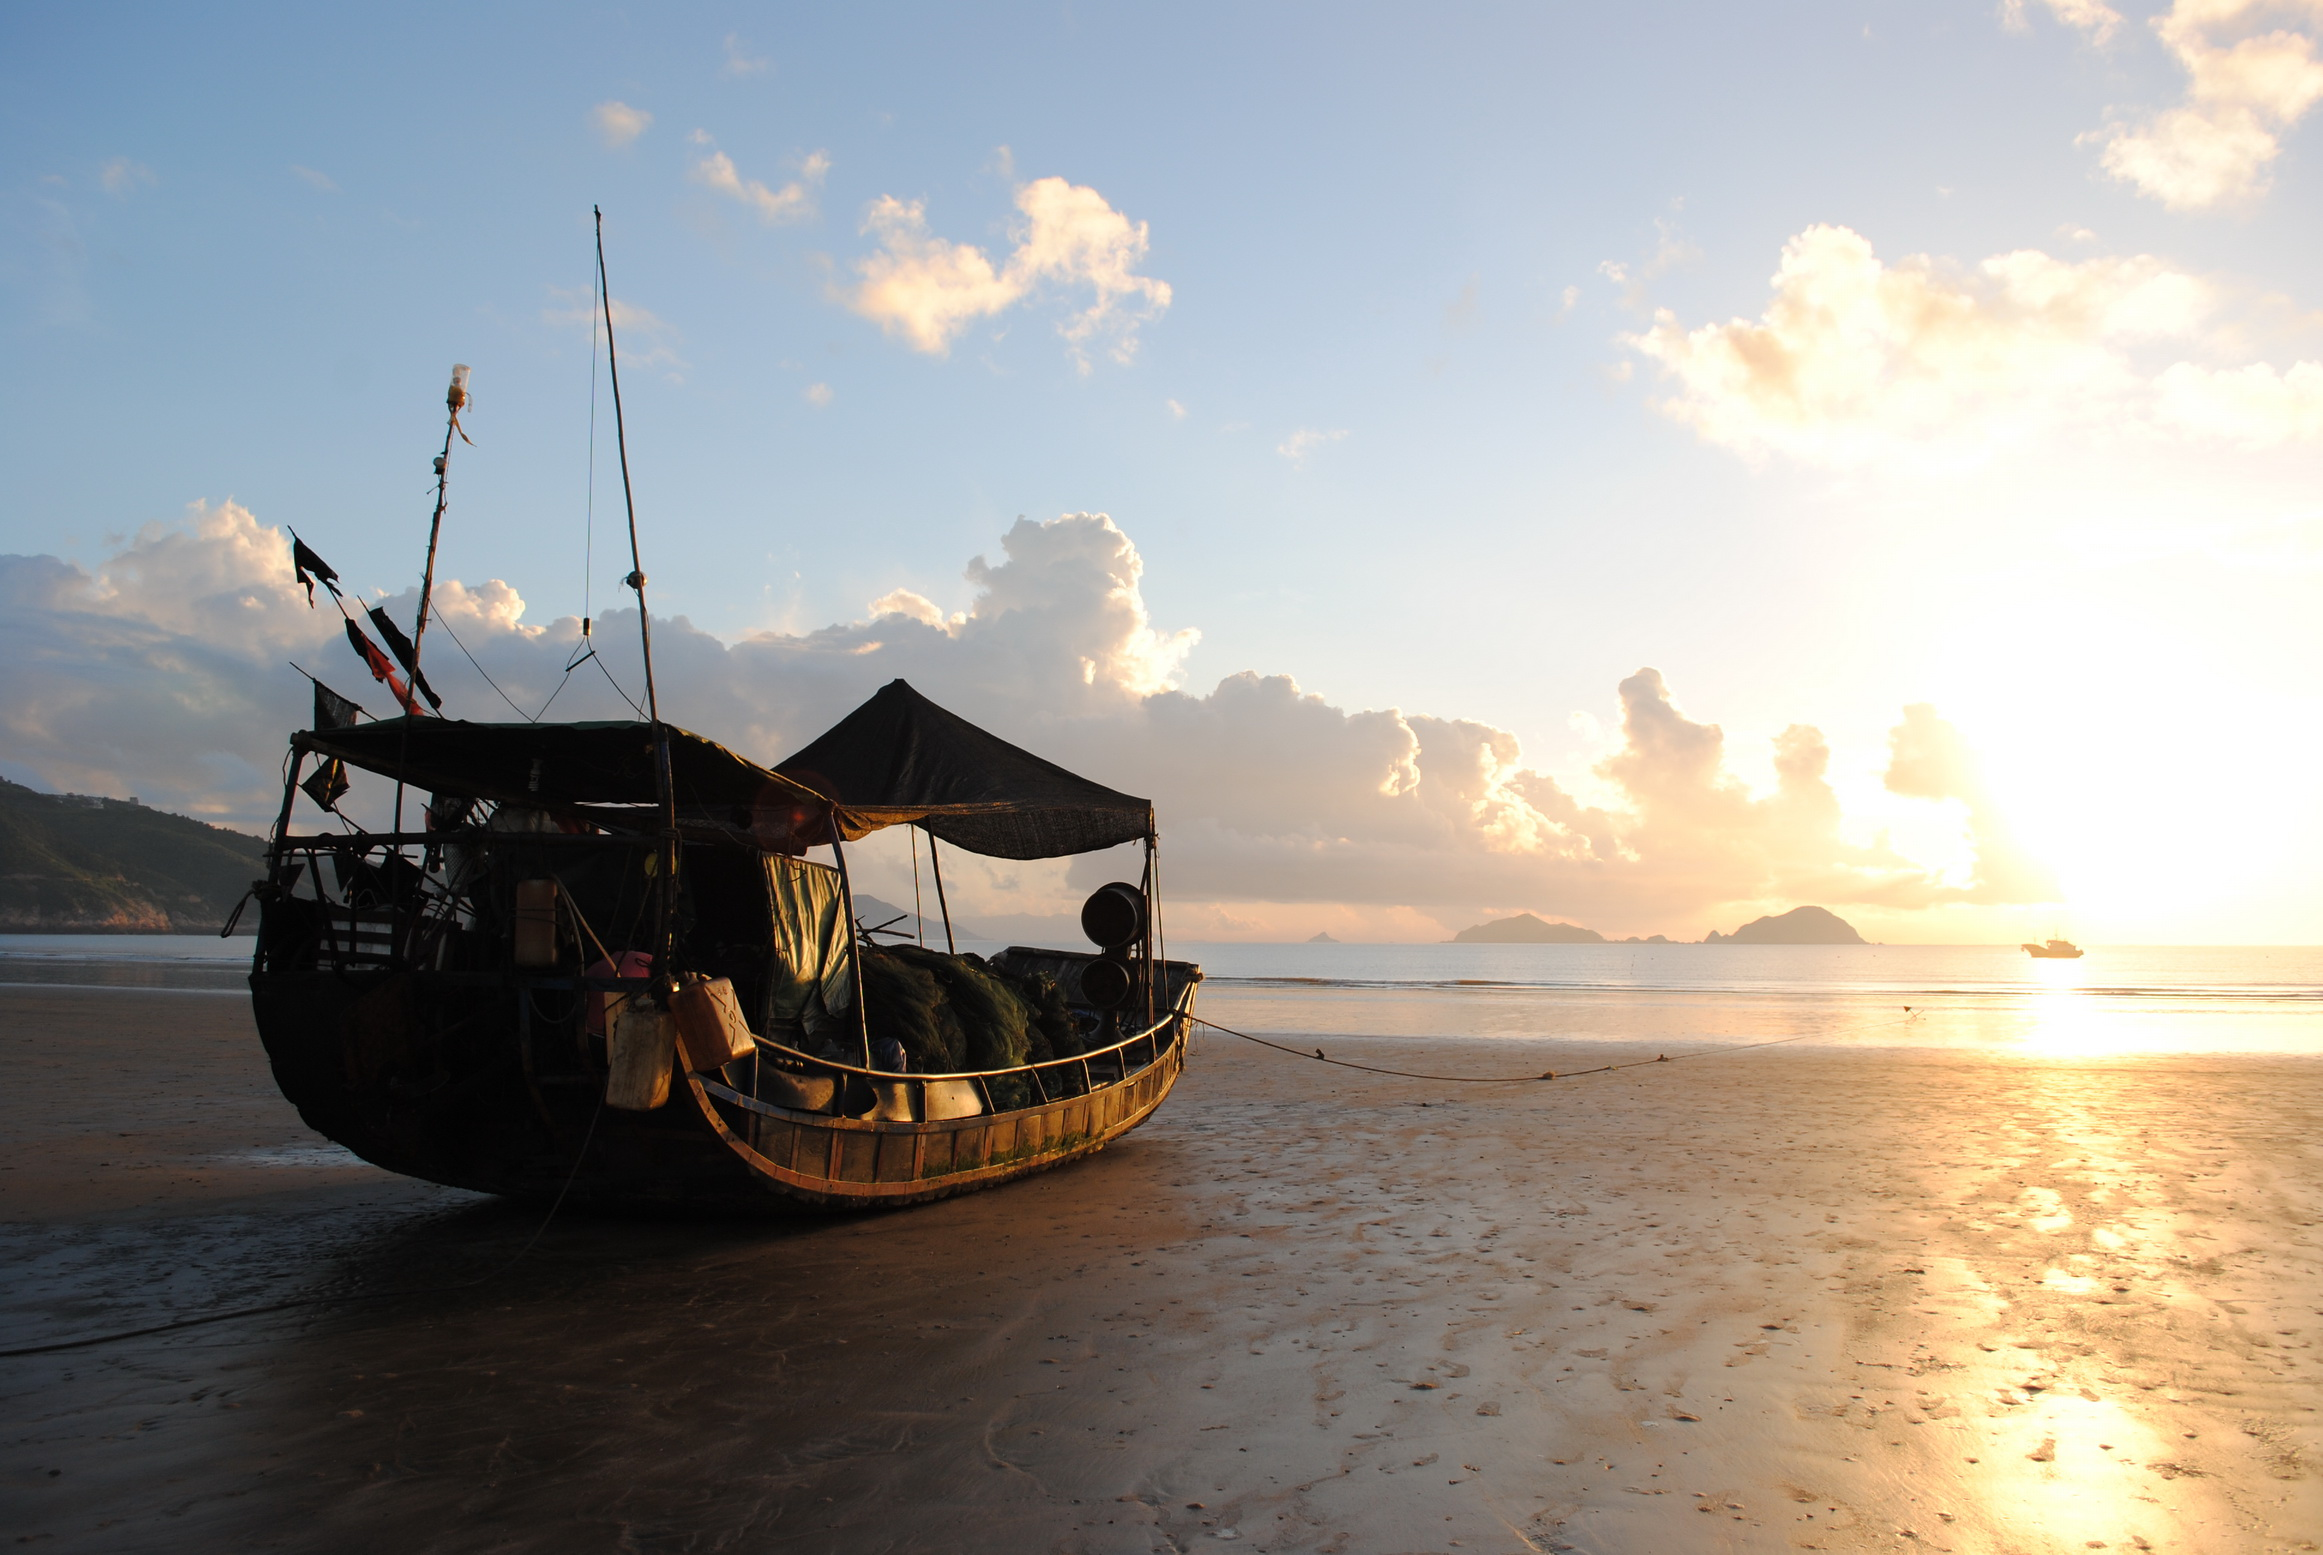otherboat: (227, 673, 1227, 1237)
